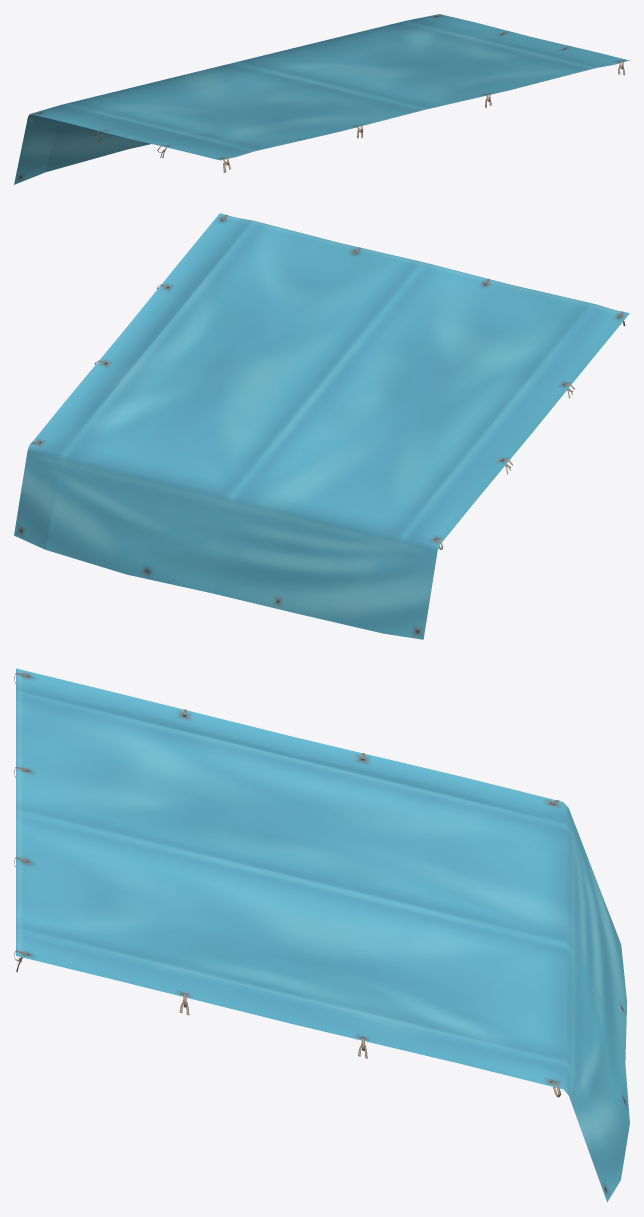
Rendered from jsf_Ceiling_s02_c03_t02.fbx.
3 views of the same model, one above another, from view 1: azimuth 30°, elevation 25°; view 2: azimuth 150°, elevation 25°; view 3: azimuth 270°, elevation 25° (orthographic). The views are drawn at different scales.
Visible parts, largest first — view 1: jsf_Ceiling_s02_c03_t02; view 2: jsf_Ceiling_s02_c03_t02; view 3: jsf_Ceiling_s02_c03_t02.
Part boxes in pixels (bbox=[...]): jsf_Ceiling_s02_c03_t02: bbox=[14, 14, 629, 184]; jsf_Ceiling_s02_c03_t02: bbox=[14, 213, 629, 639]; jsf_Ceiling_s02_c03_t02: bbox=[14, 668, 629, 1202].
Size of the model in its own units: 263 by 106 by 234.
